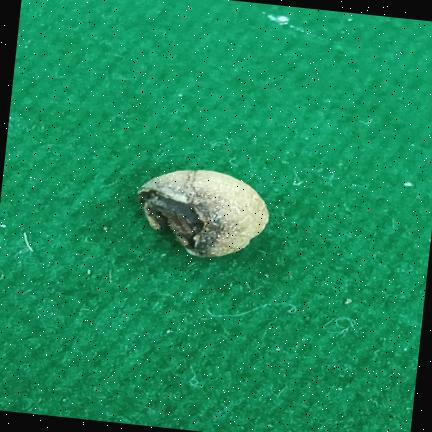partial-black: (138, 170, 268, 257)
